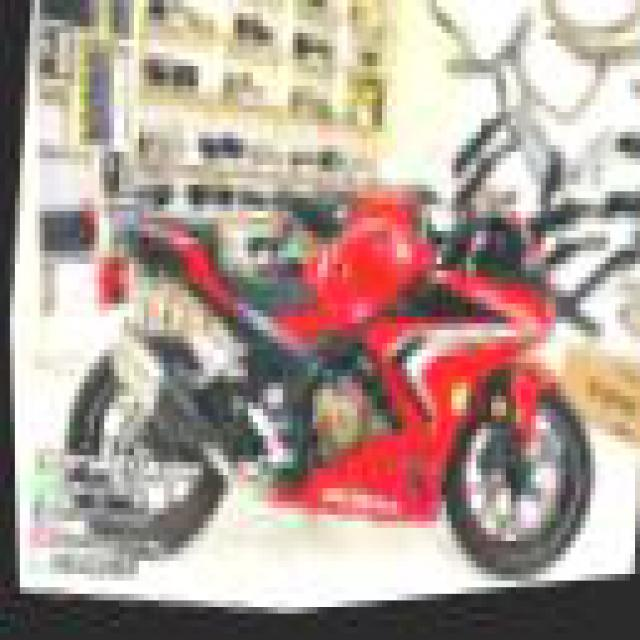CBR500R: (40, 122, 620, 630)
